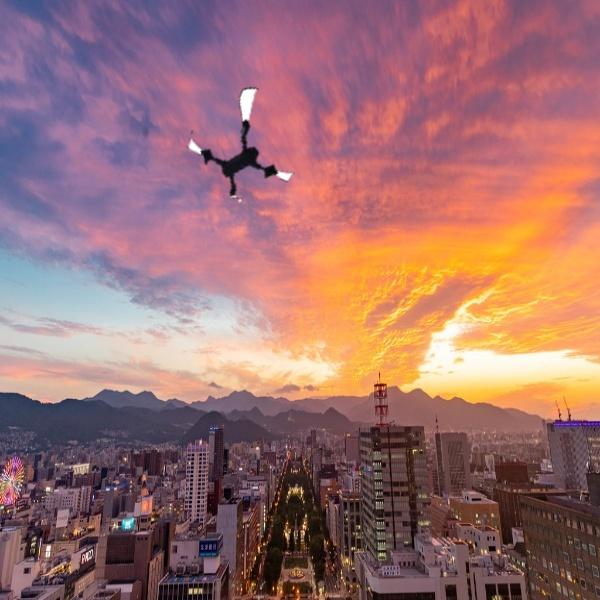drone: (184, 84, 309, 209)
